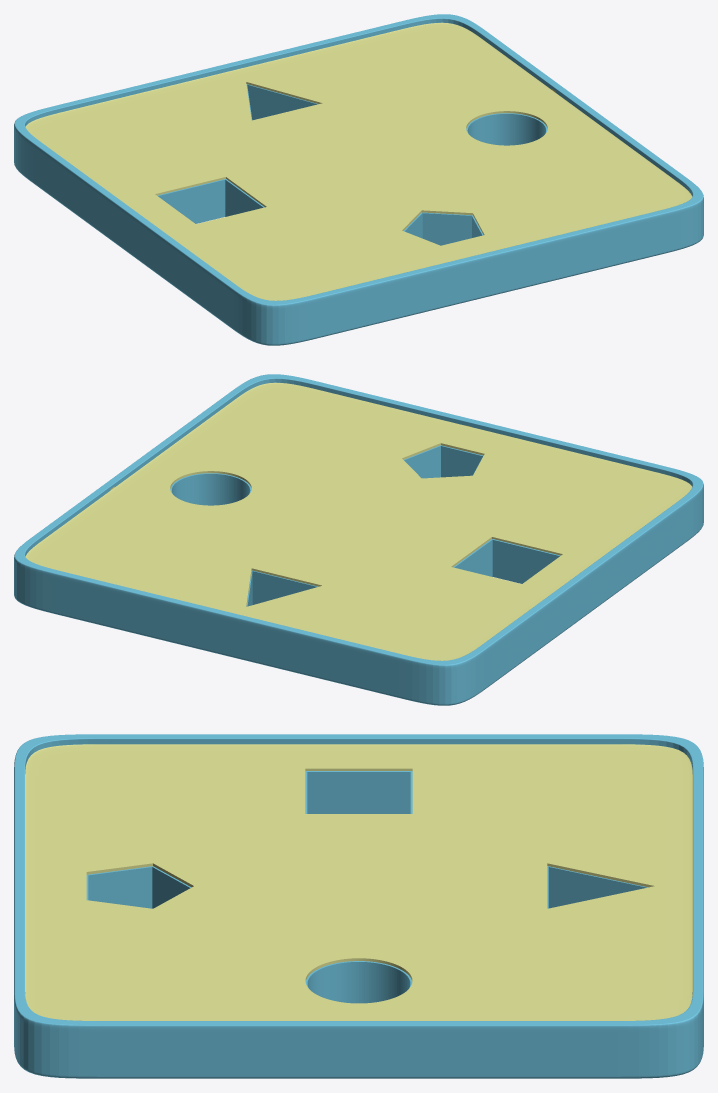
File: main_platform.fbx
3 views of the same model, one above another, from view 1: azimuth 30°, elevation 25°; view 2: azimuth 150°, elevation 25°; view 3: azimuth 270°, elevation 25° (orthographic). The views are drawn at different scales.
Parts seen in each view (by area): view 1: Board; view 2: Board; view 3: Board.
Boxes of the visible parts, x1,y1,x2,y2 form: Board: [14, 14, 703, 345]; Board: [14, 374, 703, 705]; Board: [14, 734, 703, 1078].
Bounding box in the file's own units: 1 × 1 × 0.0922.
